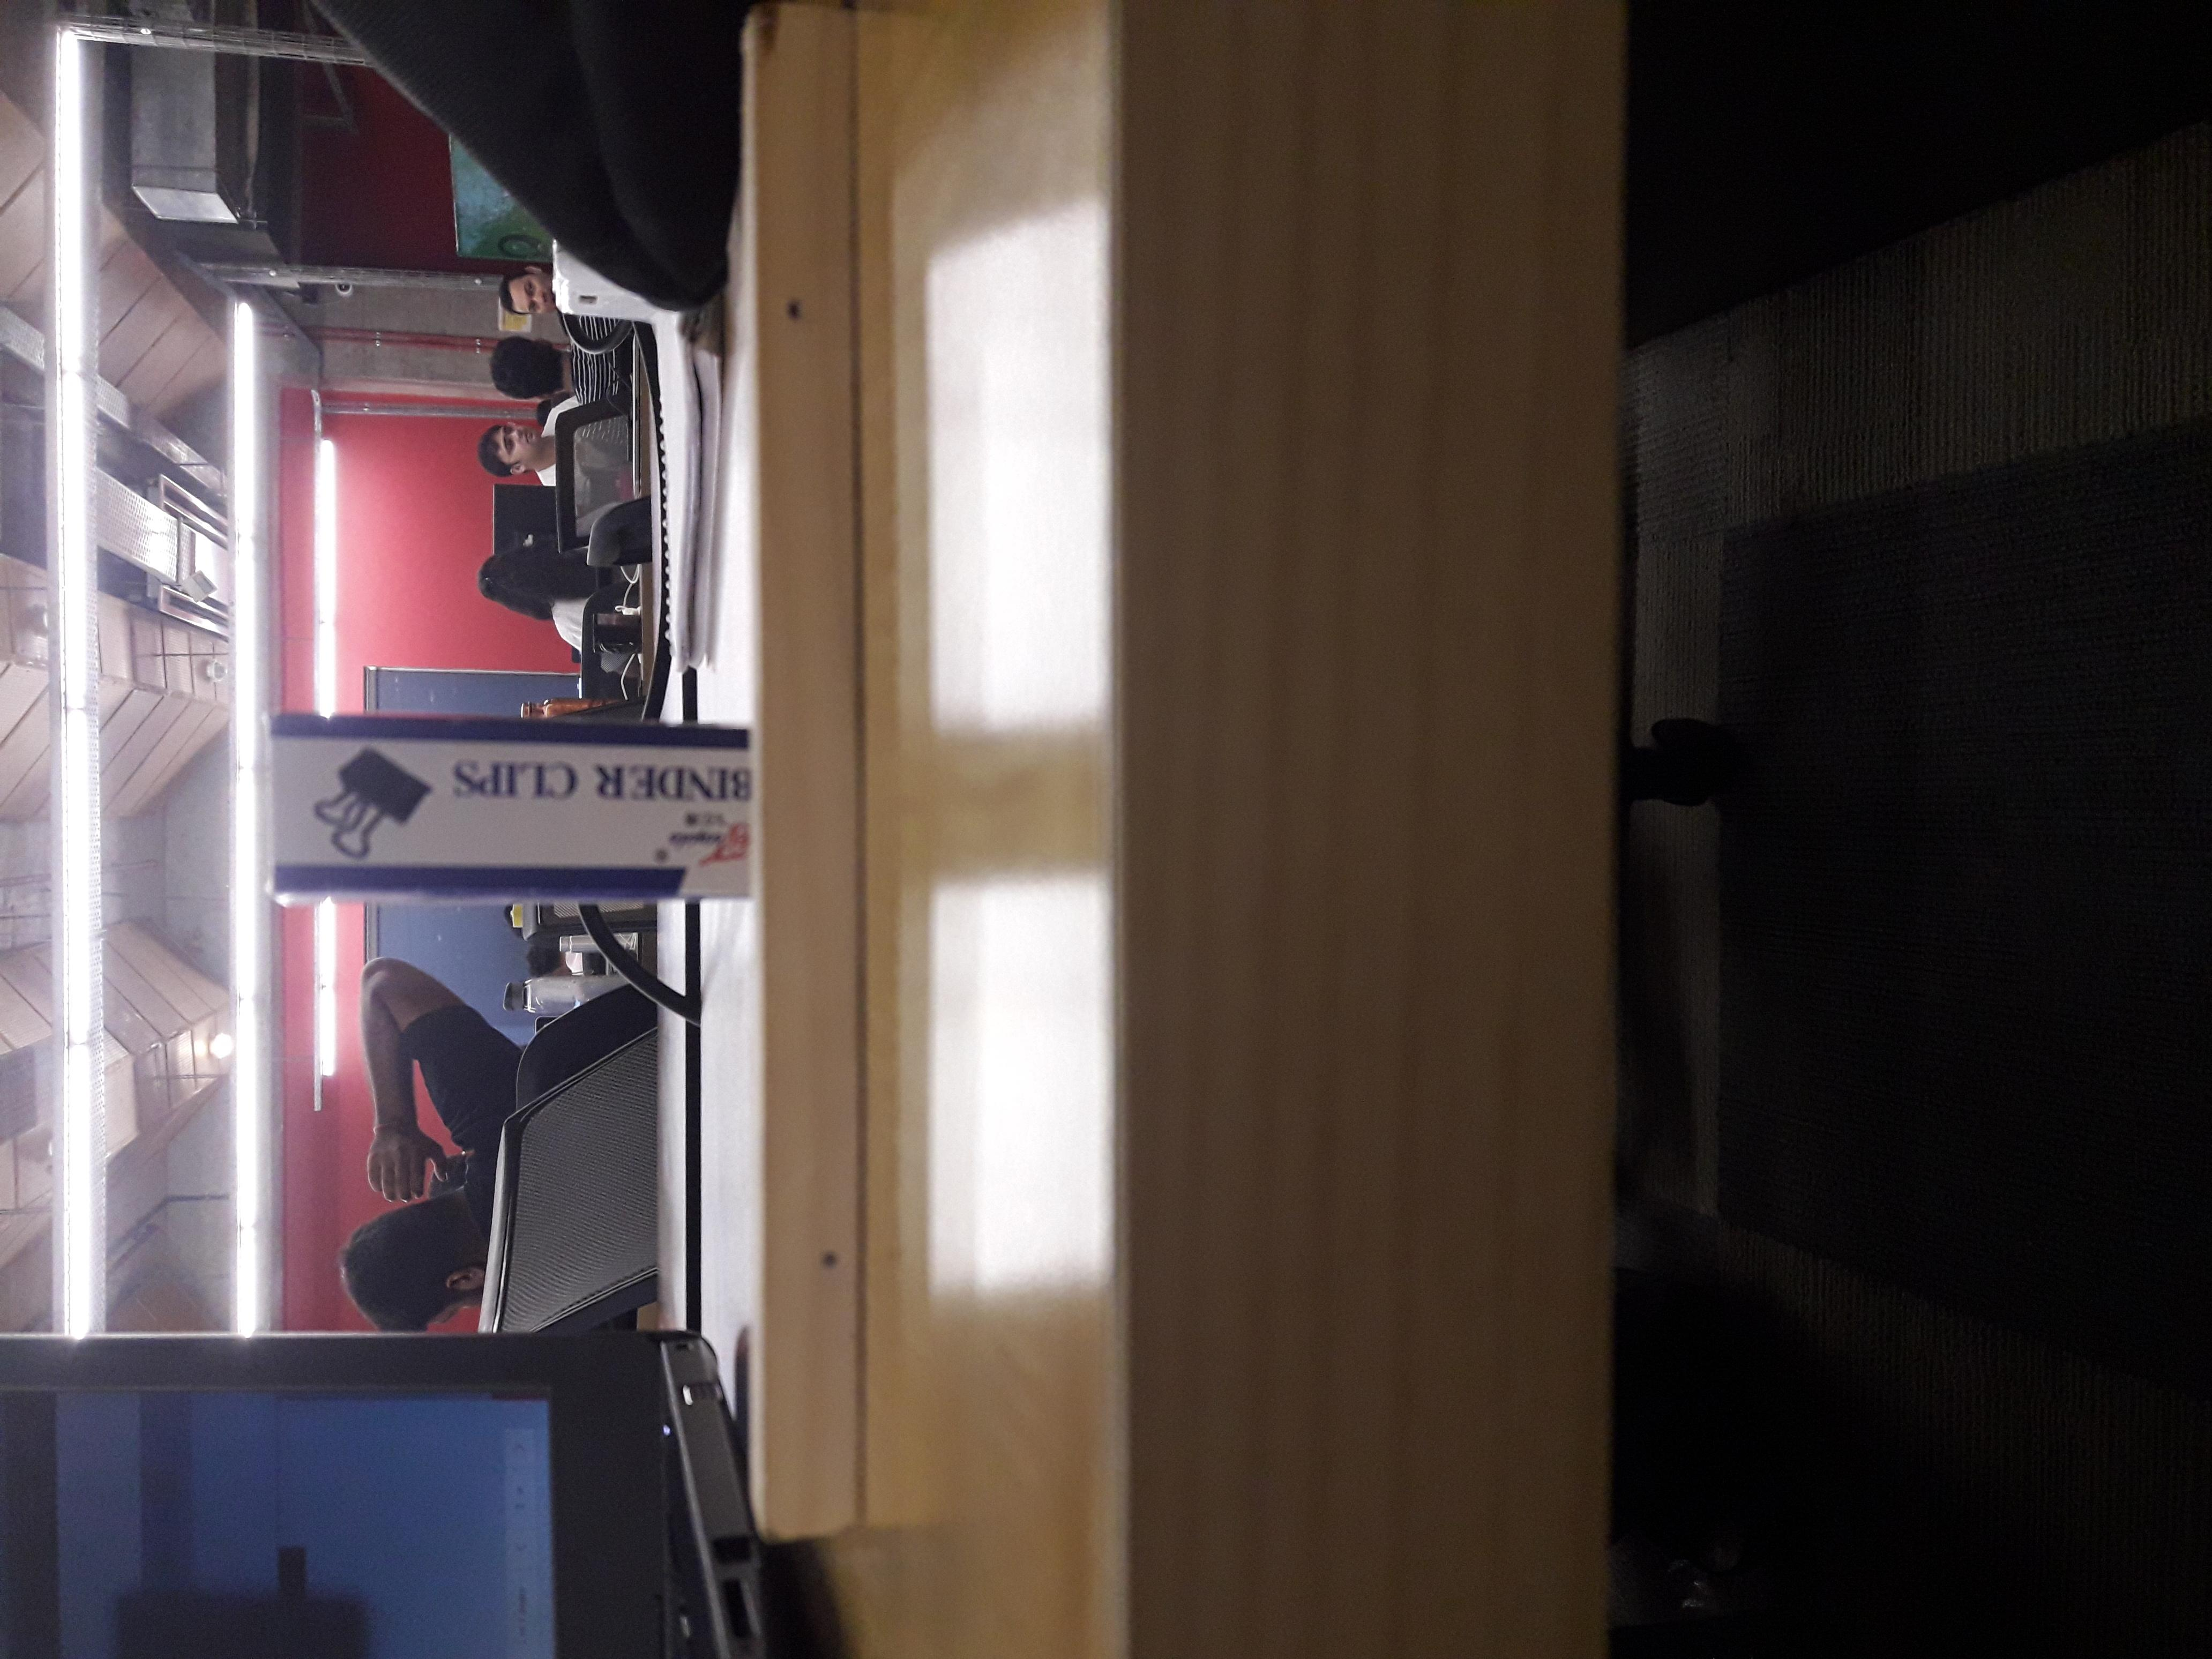object: (273, 723, 761, 878)
reference: (745, 3, 859, 1539)
